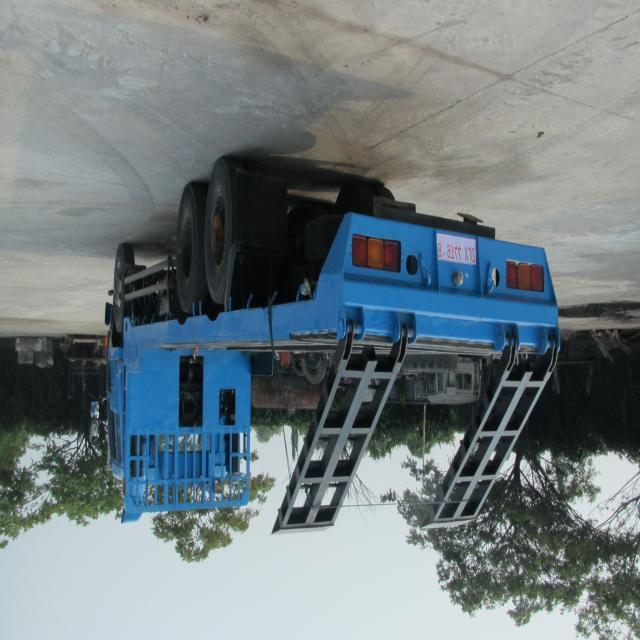truck: (99, 160, 557, 540)
